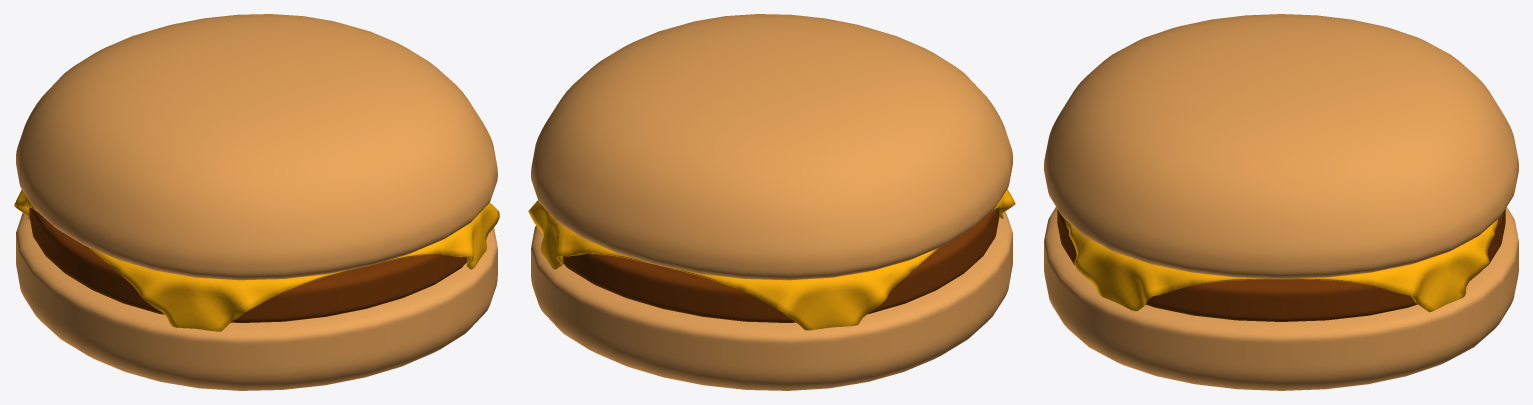
Rendered from hamburger.glb.
The picture shows the model from 3 angles, left to right: view 1: azimuth 30°, elevation 25°; view 2: azimuth 150°, elevation 25°; view 3: azimuth 270°, elevation 25°; orthographic projection.
Visible parts, largest first — view 1: Cube.001, Cube, Cube.002, Plane; view 2: Cube.001, Cube, Cube.002, Plane; view 3: Cube.001, Cube, Plane, Cube.002.
Boxes of the visible parts, x1,y1,x2,y2 form: Cube.001: [16, 14, 497, 280]; Cube: [16, 213, 497, 390]; Cube.002: [29, 207, 466, 322]; Plane: [14, 189, 499, 331]; Cube.001: [531, 14, 1012, 280]; Cube: [531, 211, 1012, 390]; Cube.002: [563, 207, 999, 322]; Plane: [528, 189, 1015, 330]; Cube.001: [1044, 14, 1518, 278]; Cube: [1044, 207, 1518, 390]; Plane: [1065, 219, 1497, 312]; Cube.002: [1057, 209, 1505, 321].
Bounding box in the file's own units: 8.8 × 5.33 × 8.8.
